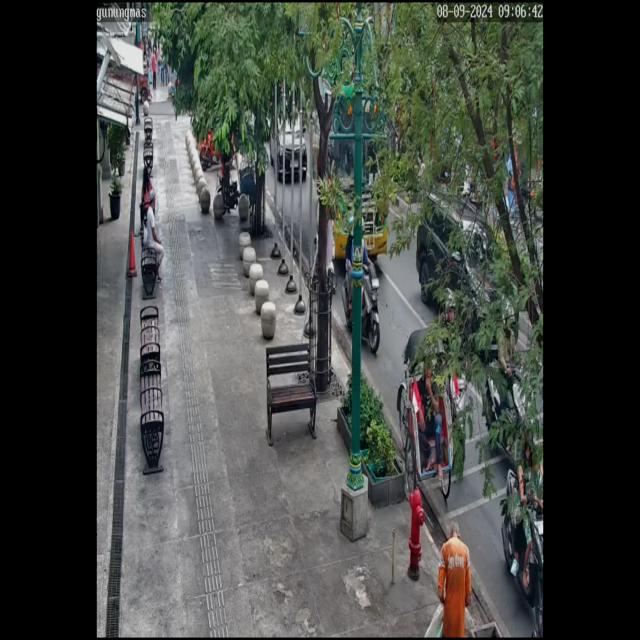Bus: (306, 66, 398, 277)
Car: (415, 180, 526, 358), (270, 90, 310, 186)
Motorcycle: (496, 435, 544, 626), (338, 218, 390, 360), (495, 307, 518, 408)
